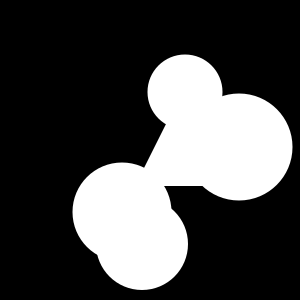rectangle: (186, 94, 292, 200), (72, 162, 172, 262), (96, 198, 188, 290), (148, 54, 222, 130)
triangle: (135, 82, 239, 186)
